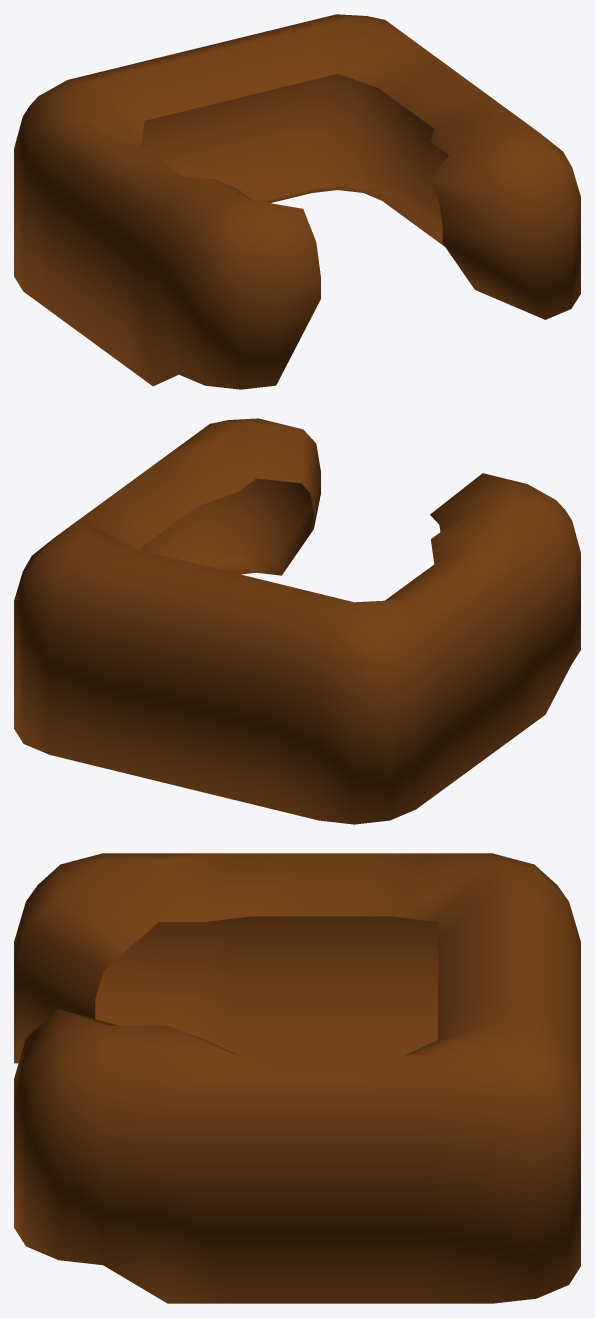
File: hairBalding.fbx
3 renders of one model, top to bottom at view 1: azimuth 30°, elevation 25°; view 2: azimuth 150°, elevation 25°; view 3: azimuth 270°, elevation 25°, orthographic. The views are drawn at different scales.
Visible parts, largest first — view 1: Balding Hair; view 2: Balding Hair; view 3: Balding Hair.
Boxes of the visible parts, box(x1,y1,x2,y2) form: Balding Hair: box(14, 14, 580, 389); Balding Hair: box(14, 418, 580, 824); Balding Hair: box(14, 853, 580, 1303).
Bounding box in the file's own units: 55.5 × 55.5 × 25.98.
